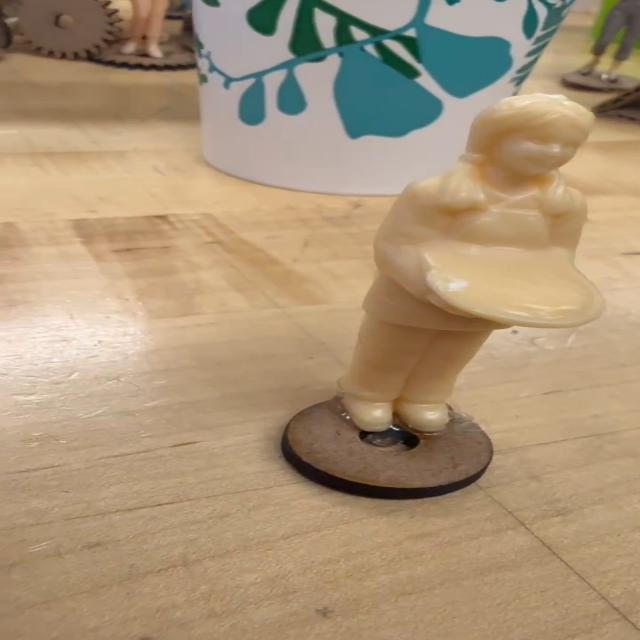Unauthorized: (266, 104, 640, 468)
